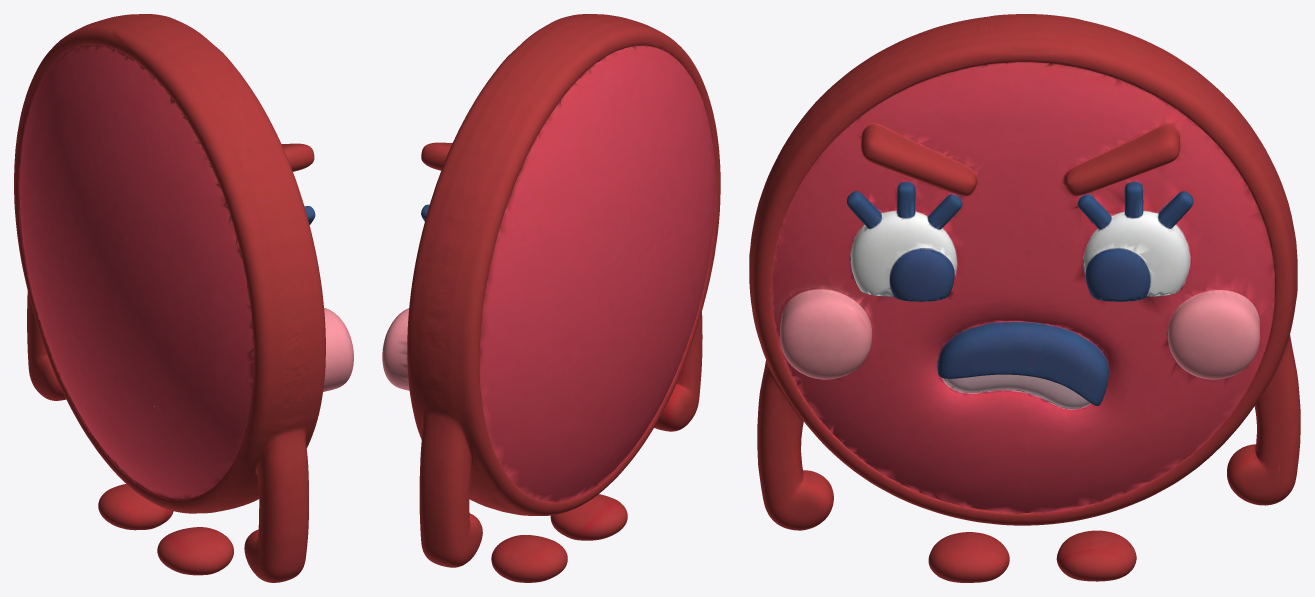
The model's file is gian-du.glb.
The picture shows the model from 3 angles, left to right: view 1: azimuth 30°, elevation 25°; view 2: azimuth 150°, elevation 25°; view 3: azimuth 270°, elevation 25°; orthographic projection. The views are drawn at different scales.
Visible parts, largest first — view 1: tripo_node_681dd8a4-3a89-4c08-b3e7-1a6534f1816d; view 2: tripo_node_681dd8a4-3a89-4c08-b3e7-1a6534f1816d; view 3: tripo_node_681dd8a4-3a89-4c08-b3e7-1a6534f1816d.
Boxes of the visible parts, bbox=[...] form: tripo_node_681dd8a4-3a89-4c08-b3e7-1a6534f1816d: bbox=[14, 14, 353, 582]; tripo_node_681dd8a4-3a89-4c08-b3e7-1a6534f1816d: bbox=[382, 14, 720, 582]; tripo_node_681dd8a4-3a89-4c08-b3e7-1a6534f1816d: bbox=[749, 14, 1300, 582].
Bounding box in the file's own units: 0.3315 × 0.9793 × 0.8937.
1 material, 1 textured.
